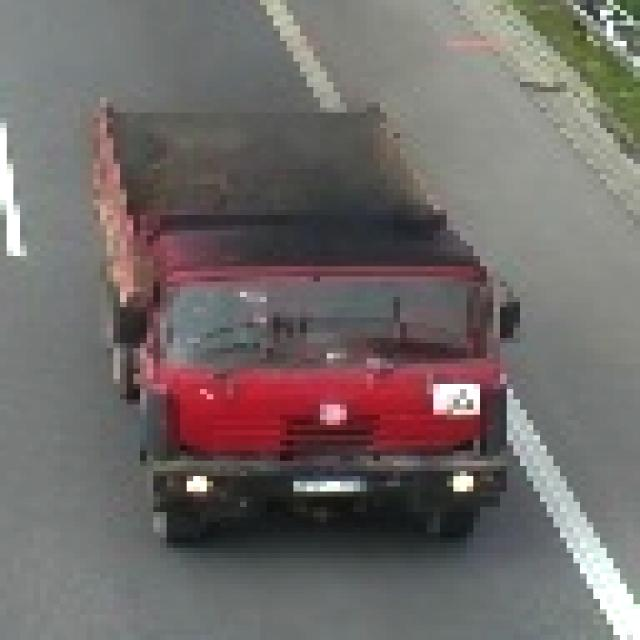truck: (81, 88, 514, 554)
